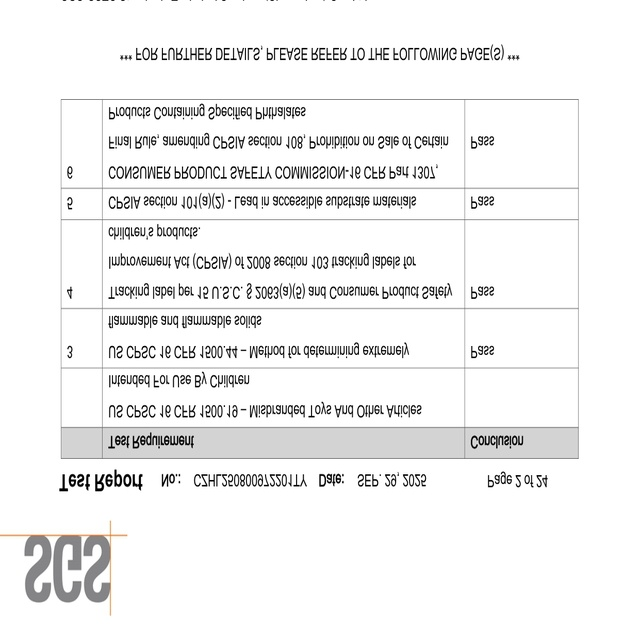sgs: (24, 534, 111, 603)
